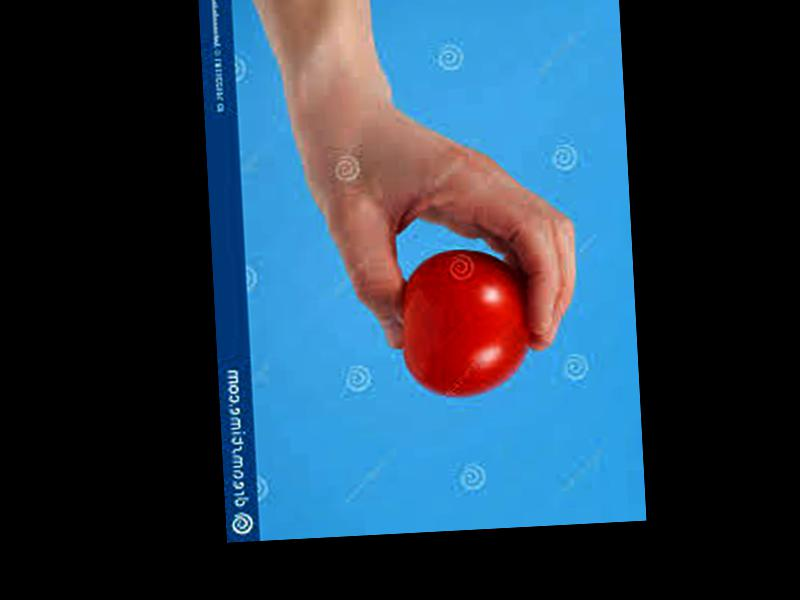Tomato: (398, 248, 535, 399)
